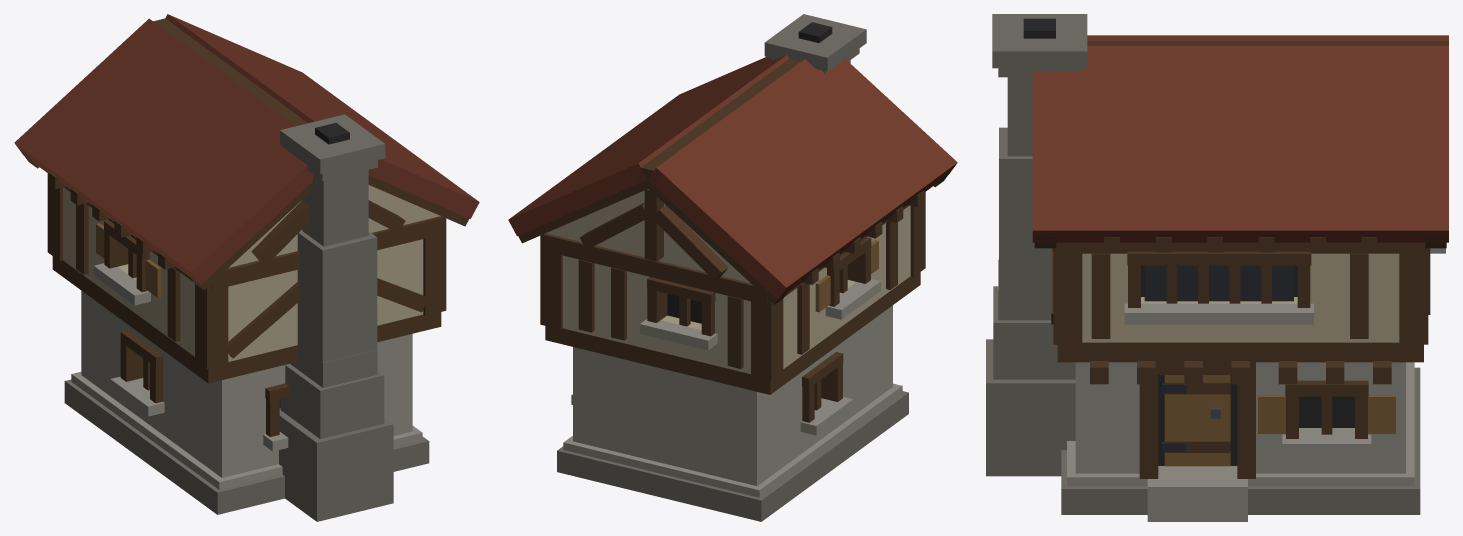
Rendered from cottage_c.glb.
3 views of the same model, side by side, from view 1: azimuth 30°, elevation 25°; view 2: azimuth 150°, elevation 25°; view 3: azimuth 270°, elevation 25° (orthographic). The views are drawn at different scales.
Parts seen in each view (by area): view 1: roof_tile, stone, timber, stone_light, plaster, timber_light, soot; view 2: roof_tile, timber, stone_light, plaster, stone, soot, timber_light; view 3: roof_tile, timber, stone, stone_light, plaster, timber_light, iron_dark, soot.
Part boxes in pixels (bbox=[...]): roof_tile: bbox=[14, 14, 479, 284]; stone: bbox=[64, 114, 429, 521]; timber: bbox=[20, 18, 468, 436]; stone_light: bbox=[71, 263, 422, 489]; plaster: bbox=[63, 185, 440, 361]; timber_light: bbox=[96, 223, 161, 297]; soot: bbox=[279, 123, 349, 407]; roof_tile: bbox=[508, 55, 957, 299]; timber: bbox=[518, 58, 951, 422]; stone_light: bbox=[563, 279, 902, 497]; plaster: bbox=[546, 190, 910, 374]; stone: bbox=[557, 14, 908, 521]; soot: bbox=[667, 22, 832, 323]; timber_light: bbox=[815, 240, 878, 312]; roof_tile: bbox=[1032, 35, 1448, 242]; timber: bbox=[1034, 41, 1448, 478]; stone: bbox=[986, 14, 1420, 514]; stone_light: bbox=[1067, 248, 1445, 521]; plaster: bbox=[1082, 253, 1399, 342]; timber_light: bbox=[1164, 375, 1395, 466]; iron_dark: bbox=[1144, 265, 1293, 451]; soot: bbox=[1023, 18, 1354, 465].
Bounding box in the file's own units: 54.48 × 66 × 64.5.
